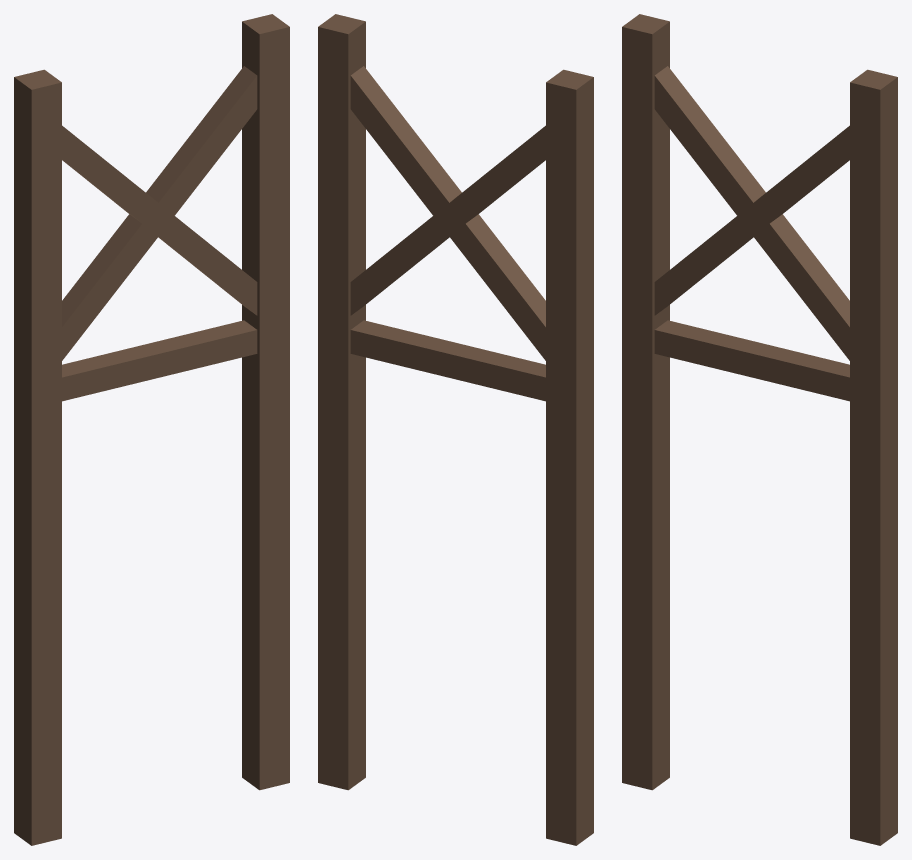
File: Wood Bridge Support destruction.fbx
3 renders of one model, left to right at view 1: azimuth 30°, elevation 25°; view 2: azimuth 150°, elevation 25°; view 3: azimuth 330°, elevation 25°, orthographic.
Visible parts, largest first — view 1: Cube.051, Cube.821, Cube.825, Cube.059, Cube.056, Cube.058, Cube.057, Cube.043, Cube.055, Cube.823, Cube.824; view 2: Cube.051, Cube.821, Cube.825, Cube.059, Cube.056, Cube.058, Cube.057, Cube.043, Cube.055, Cube.823, Cube.824; view 3: Cube.824, Cube.043, Cube.059, Cube.055, Cube.825, Cube.058, Cube.057, Cube.821, Cube.056, Cube.823, Cube.051.
Part boxes in pixels (box(x1,y1,x2,y2)): Cube.051: box(62, 66, 257, 360); Cube.821: box(14, 69, 61, 278); Cube.825: box(14, 644, 61, 845); Cube.059: box(242, 589, 289, 790); Cube.056: box(14, 266, 61, 467); Cube.058: box(14, 455, 61, 656); Cube.057: box(242, 400, 289, 601); Cube.043: box(242, 14, 289, 223); Cube.055: box(242, 211, 289, 412); Cube.823: box(62, 320, 257, 401); Cube.824: box(62, 125, 257, 315); Cube.051: box(350, 66, 545, 360); Cube.821: box(546, 69, 593, 278); Cube.825: box(546, 644, 593, 845); Cube.059: box(318, 589, 365, 790); Cube.056: box(546, 266, 593, 467); Cube.058: box(546, 455, 593, 656); Cube.057: box(318, 400, 365, 601); Cube.043: box(318, 14, 365, 223); Cube.055: box(318, 211, 365, 412); Cube.823: box(350, 320, 545, 401); Cube.824: box(350, 125, 545, 315); Cube.824: box(654, 66, 849, 360); Cube.043: box(850, 69, 897, 278); Cube.059: box(850, 644, 897, 845); Cube.055: box(850, 266, 897, 467); Cube.825: box(622, 589, 669, 790); Cube.058: box(622, 400, 669, 601); Cube.057: box(850, 455, 897, 656); Cube.821: box(622, 14, 669, 223); Cube.056: box(622, 211, 669, 412); Cube.823: box(654, 320, 849, 401); Cube.051: box(654, 125, 849, 315).
Size of the model in its own units: 5.09 by 14.25 by 0.6.
